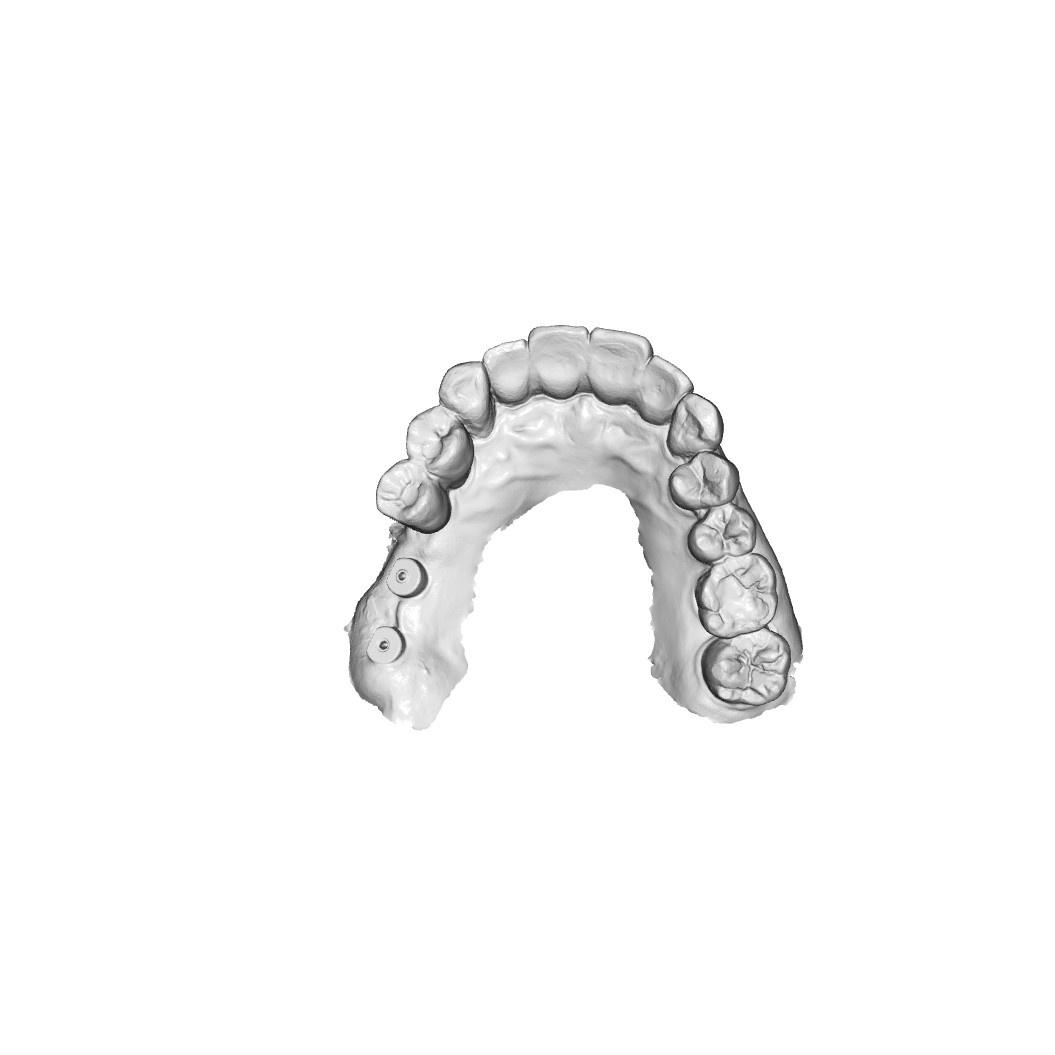canine: (438, 361, 496, 431), (672, 396, 725, 450)
implant: (364, 620, 409, 675), (383, 558, 427, 600)
incisor: (592, 327, 651, 405), (527, 322, 586, 397), (483, 339, 536, 407), (642, 361, 688, 415)
molar: (706, 631, 791, 709), (703, 557, 774, 634)
premolar: (377, 459, 445, 528), (406, 406, 472, 473), (668, 451, 737, 513), (692, 504, 750, 559)
